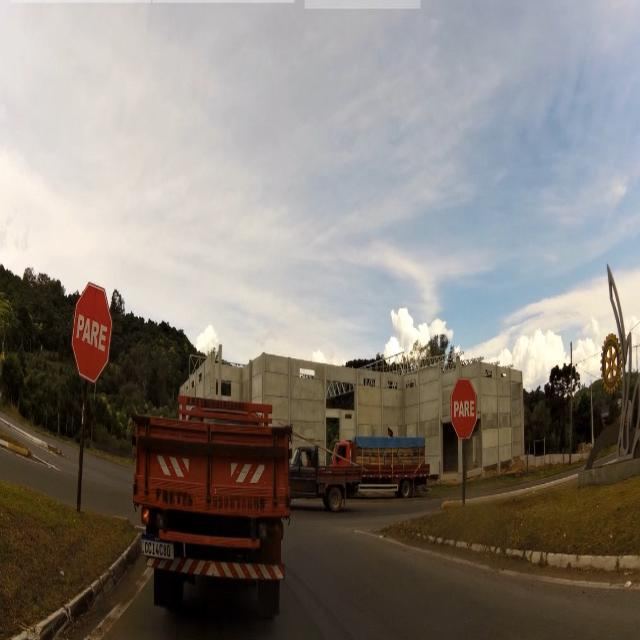R-1: (71, 275, 115, 390), (448, 372, 484, 444)
